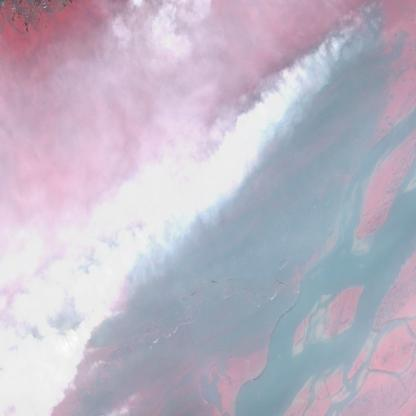fire: (82, 0, 391, 416)
